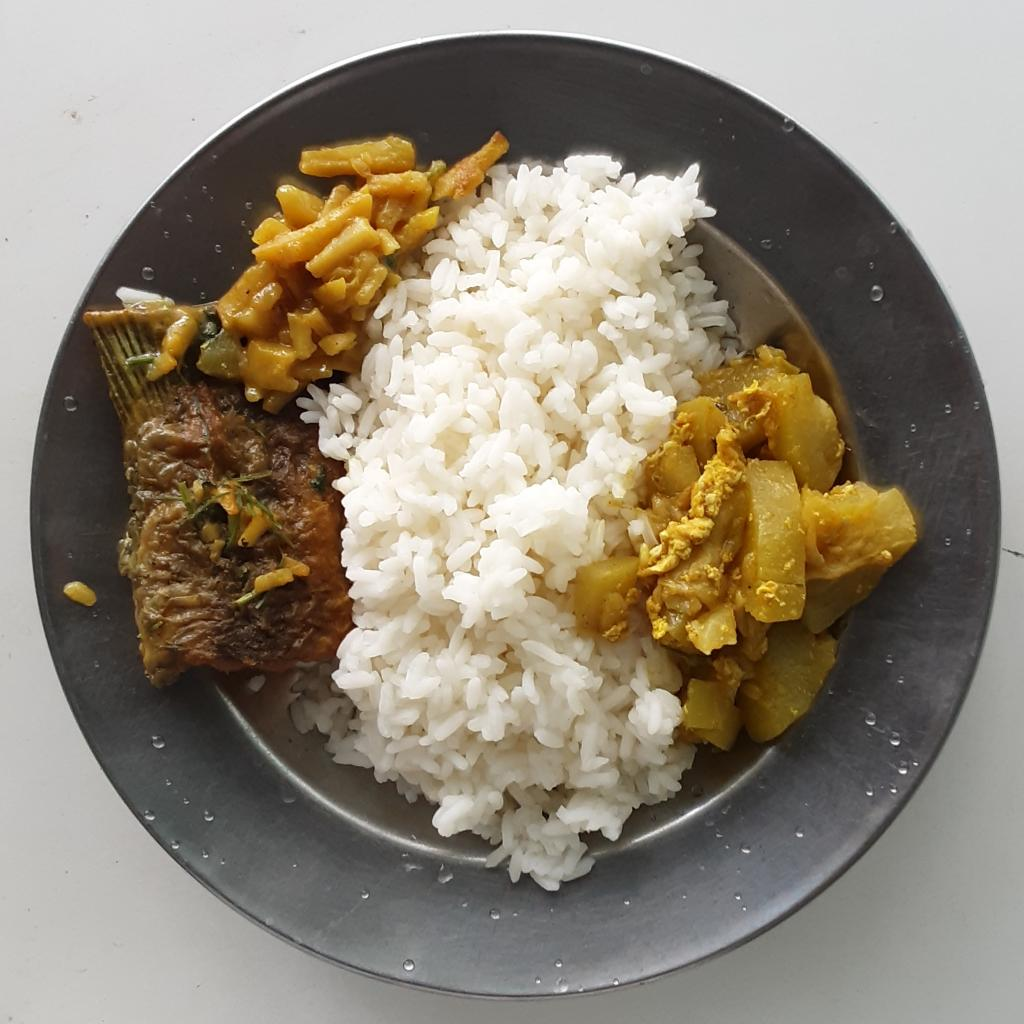fish: (88, 308, 357, 695)
kumra-vaji: (574, 347, 921, 753)
potato: (149, 136, 510, 410)
rice: (291, 152, 742, 893)
